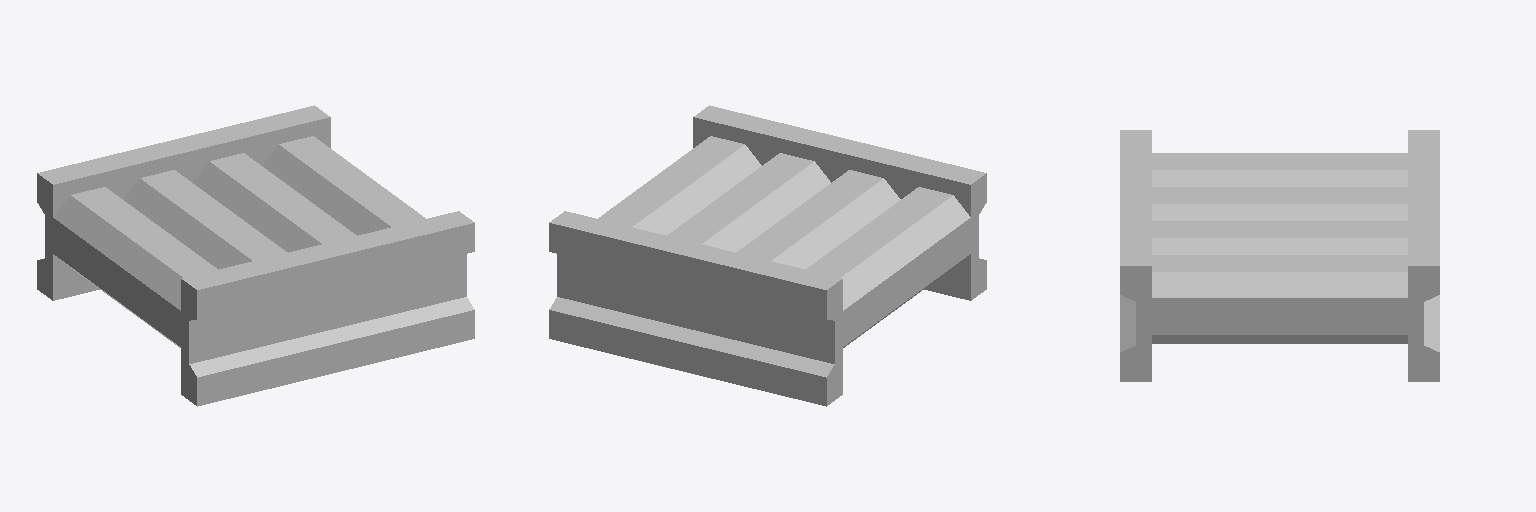
The model's file is conveyor-bars-stripe-high.obj.
3 renders of one model, left to right at view 1: azimuth 30°, elevation 25°; view 2: azimuth 150°, elevation 25°; view 3: azimuth 270°, elevation 25°, orthographic.
Parts seen in each view (by area): view 1: Group; view 2: Group; view 3: Group.
Part boxes in pixels (x1,y1,x2,y2): Group: (37,105,474,406); Group: (549,105,986,406); Group: (1120,130,1439,381).
Size of the model in its own units: 1 by 0.4 by 1.